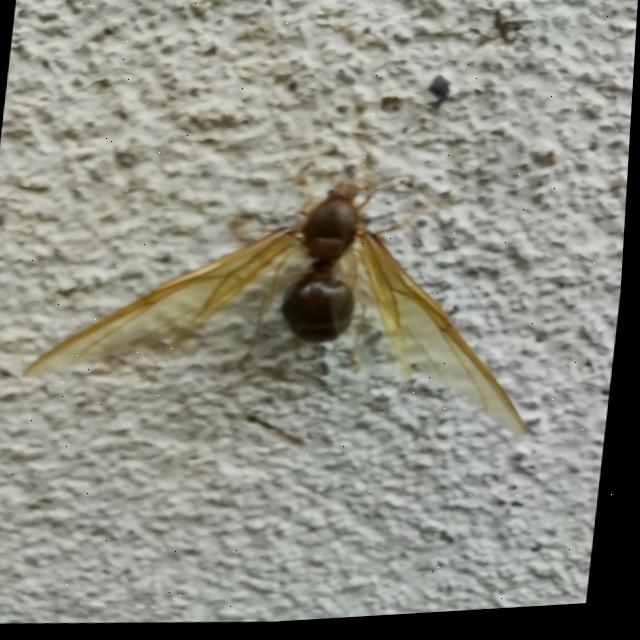Alive-Male-Alate: (18, 147, 560, 468)
